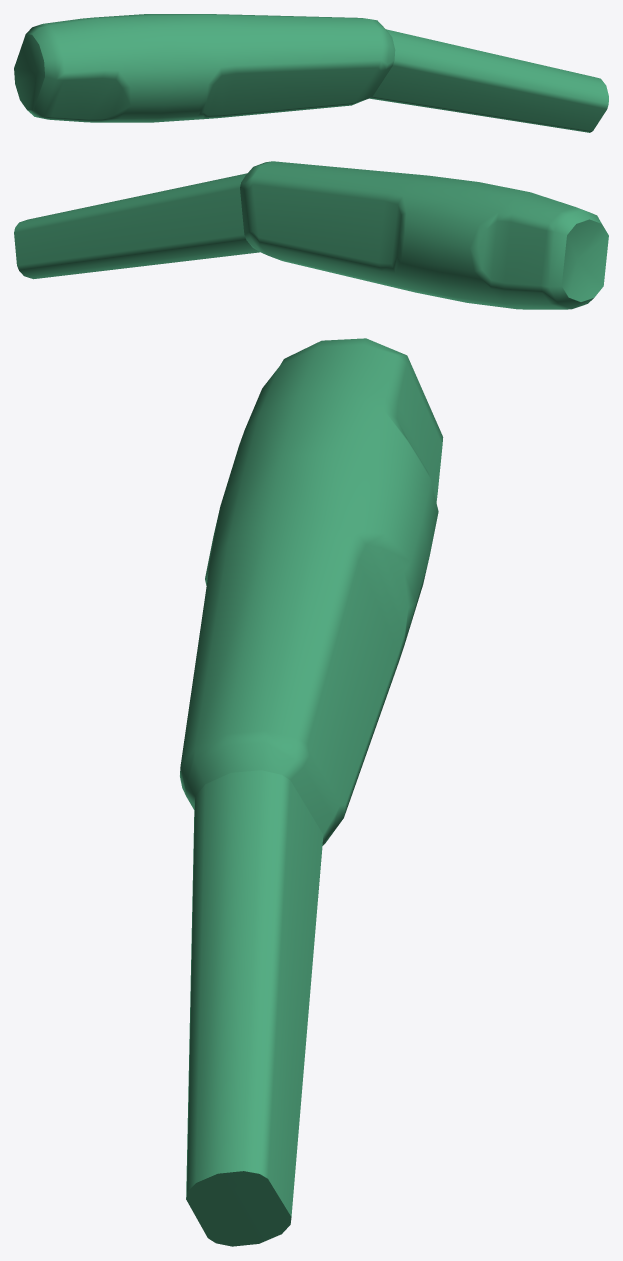
The model's file is wiperstalk.fbx.
3 views of the same model, one above another, from view 1: azimuth 30°, elevation 25°; view 2: azimuth 150°, elevation 25°; view 3: azimuth 270°, elevation 25° (orthographic). The views are drawn at different scales.
Visible parts, largest first — view 1: vivace_wiperstalk; view 2: vivace_wiperstalk; view 3: vivace_wiperstalk.
Boxes of the visible parts, x1,y1,x2,y2 form: vivace_wiperstalk: [14, 14, 608, 132]; vivace_wiperstalk: [14, 161, 608, 309]; vivace_wiperstalk: [180, 338, 443, 1246].
Bounding box in the file's own units: 15.35 × 5.47 × 3.18.
